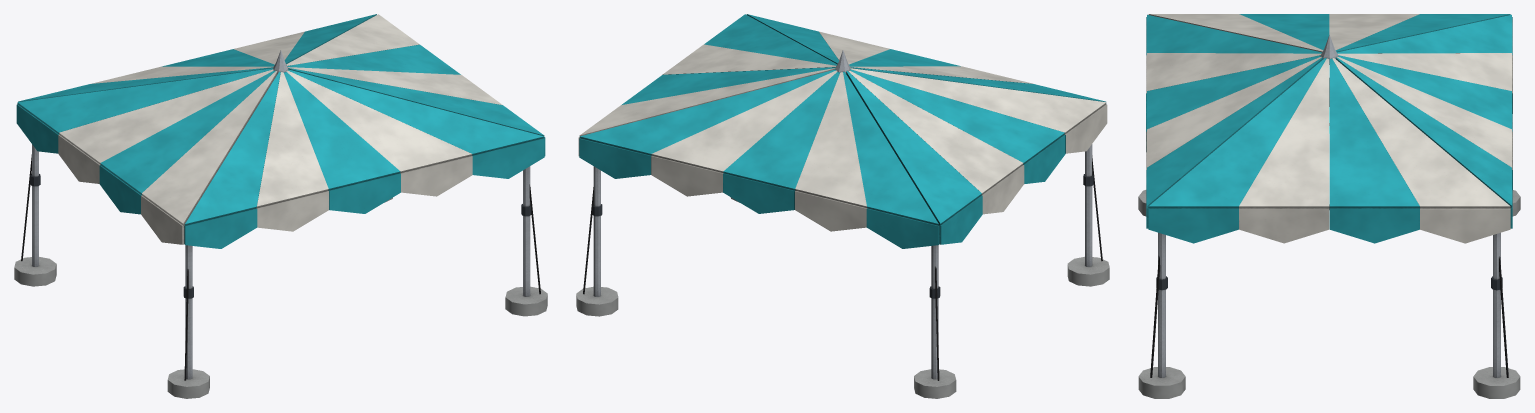
The model's file is toldo_mercado.fbx.
3 views of the same model, side by side, from view 1: azimuth 30°, elevation 25°; view 2: azimuth 150°, elevation 25°; view 3: azimuth 270°, elevation 25° (orthographic). The views are drawn at different scales.
Parts seen in each view (by area): view 1: toldo_mercado; view 2: toldo_mercado; view 3: toldo_mercado.
Boxes of the visible parts, x1,y1,x2,y2 form: toldo_mercado: [14, 14, 547, 398]; toldo_mercado: [576, 14, 1109, 398]; toldo_mercado: [1138, 14, 1520, 398].
Bounding box in the file's own units: 5.2 × 3.23 × 4.22.
2 materials, 2 textured.
